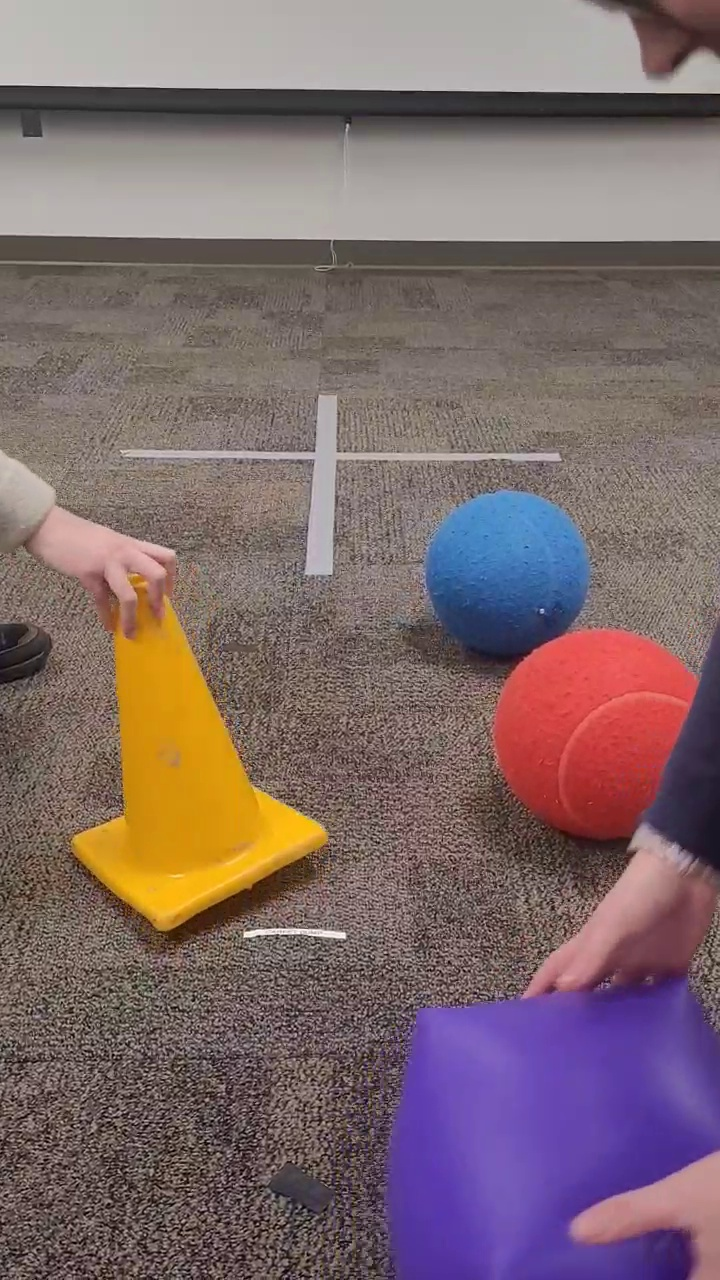ball: (489, 621, 706, 848), (422, 484, 594, 665)
cone: (62, 564, 329, 942)
cube: (379, 991, 720, 1279)
face: (574, 1, 719, 101)
foot: (1, 615, 55, 685)
hand: (518, 614, 720, 1002), (1, 438, 181, 640), (564, 1144, 719, 1276)
